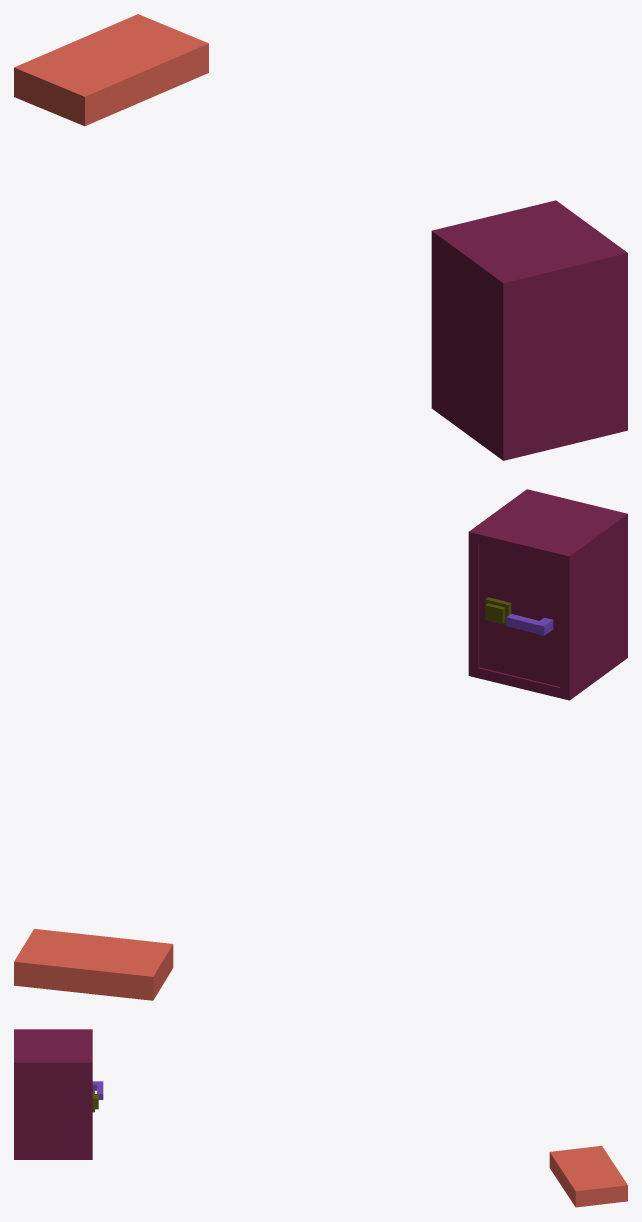
File: pillowBed and Strongbox.fbx
3 renders of one model, top to bottom at view 1: azimuth 30°, elevation 25°; view 2: azimuth 150°, elevation 25°; view 3: azimuth 270°, elevation 25°, orthographic. The views are drawn at different scales.
Parts seen in each view (by area): view 1: Strongbox, Pillow bed; view 2: Strongbox, Door strongbox, Pillow bed; view 3: Strongbox, Pillow bed, Door strongbox.
Boxes of the visible parts, <box> form: Strongbox: <box>431,200,627,460</box>; Pillow bed: <box>14,14,208,126</box>; Strongbox: <box>468,489,627,700</box>; Door strongbox: <box>479,544,559,686</box>; Pillow bed: <box>14,929,173,1000</box>; Strongbox: <box>14,1029,92,1159</box>; Pillow bed: <box>549,1145,627,1207</box>; Door strongbox: <box>92,1081,103,1112</box>.
Size of the model in its own units: 47.78 by 45.63 by 212.
